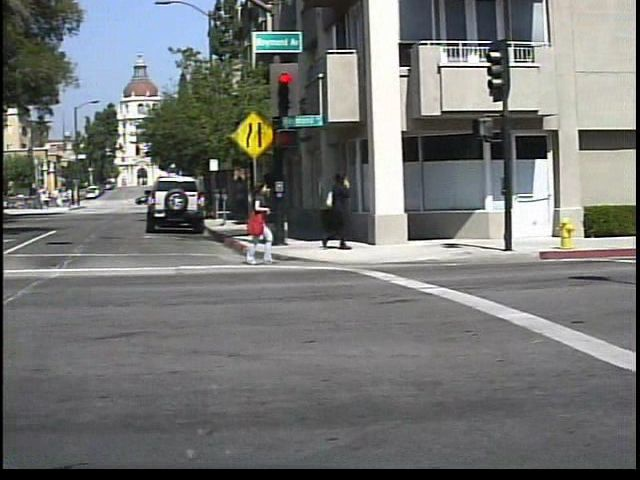person: (241, 177, 292, 267), (323, 168, 363, 254)
